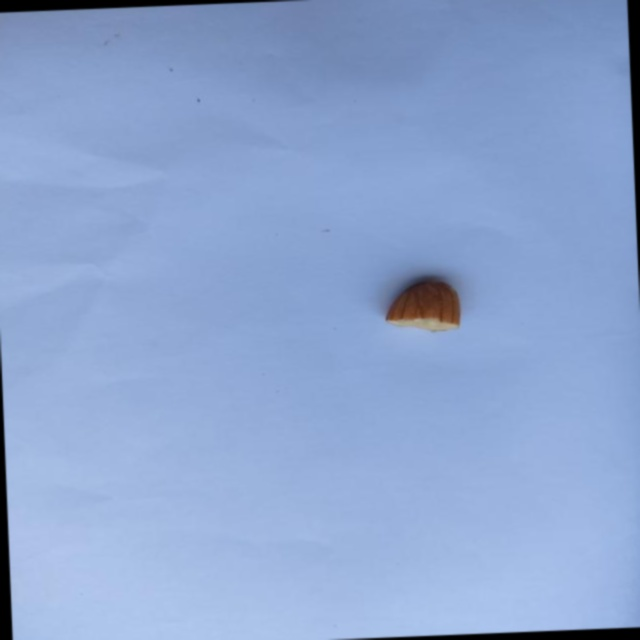grade4: (375, 272, 469, 338)
